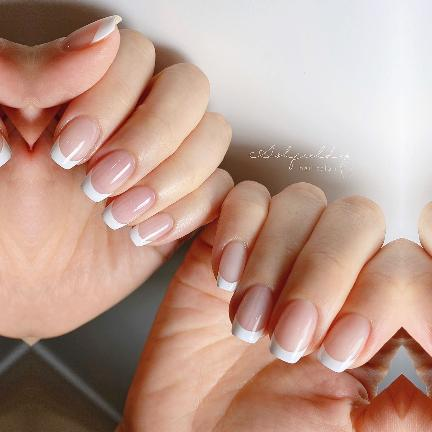Nail: (270, 299, 318, 364), (317, 314, 370, 372), (80, 149, 135, 202), (49, 117, 98, 170), (231, 284, 273, 343), (101, 186, 155, 230), (60, 15, 120, 51), (216, 242, 247, 292), (129, 213, 173, 247), (0, 133, 11, 167)
